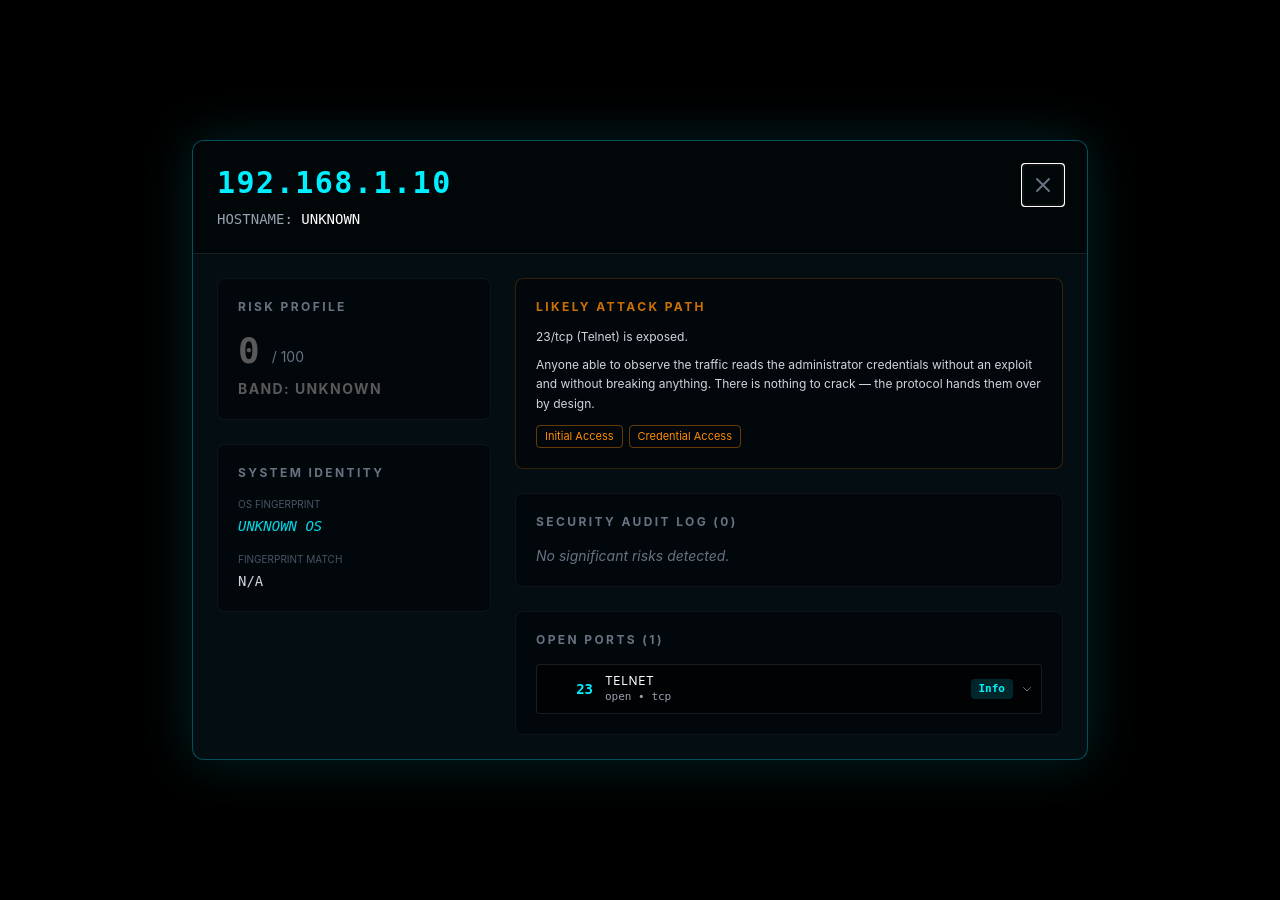
Scenario: HostDetailsModal › uma porta sem CVEs abre na mesma quando ha dossie -- o Telnet nao tem falha, e a falha
Expected: the text "Info" is shown, top-left (970, 678), bottom-right (1013, 699)
Click the button "23 telnet open • tcp Info" at (630, 680), box top-left (537, 664), bottom-right (1041, 713)
(page scrolled)
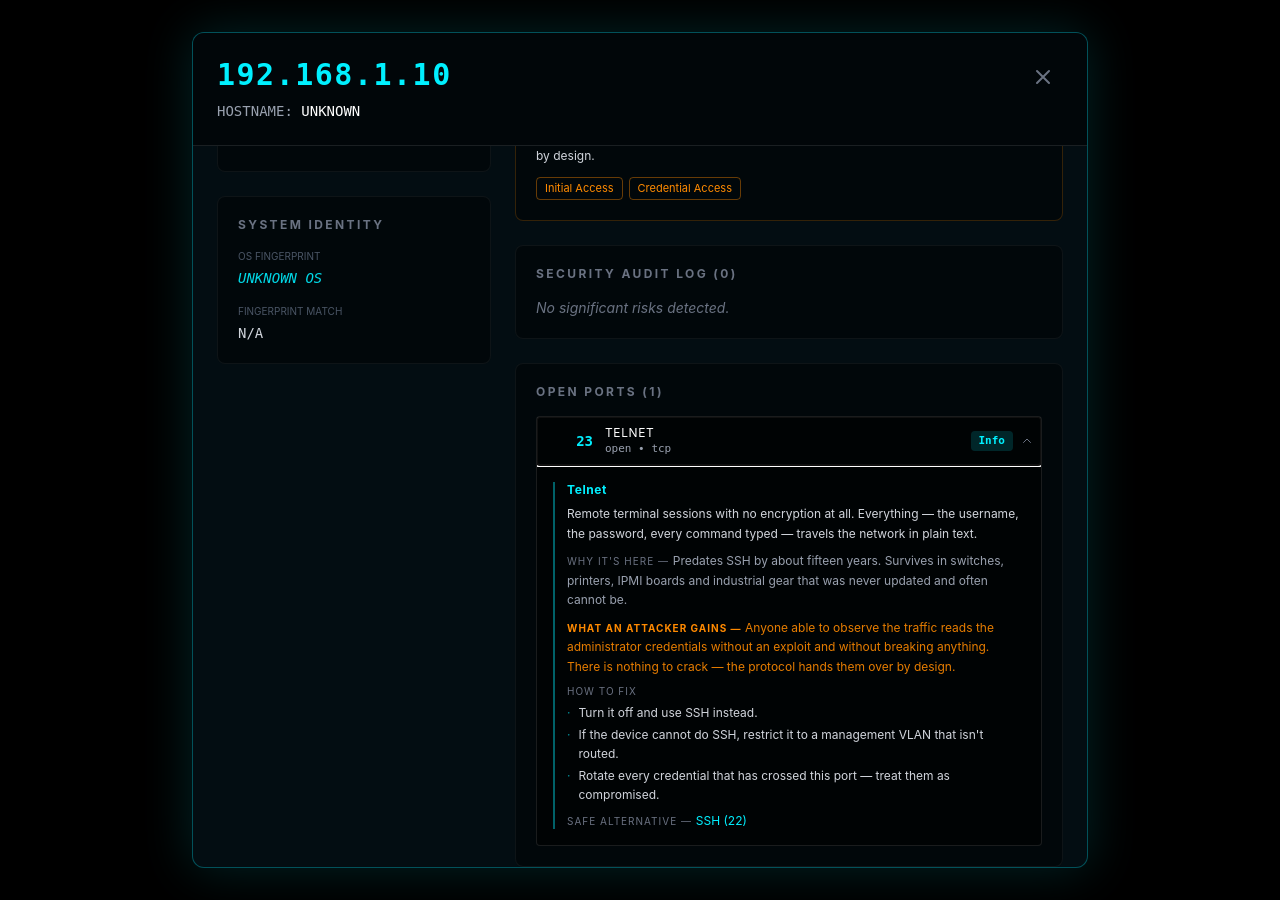
Expected: the text "travels the network in plain text" is shown, top-left (567, 506), bottom-right (1019, 540)
Expected: the text "reads the administrator credentials" is shown, top-left (567, 620), bottom-right (994, 674)
Expected: the text "Turn it off and use SSH instead." is shown, top-left (578, 703), bottom-right (758, 722)
